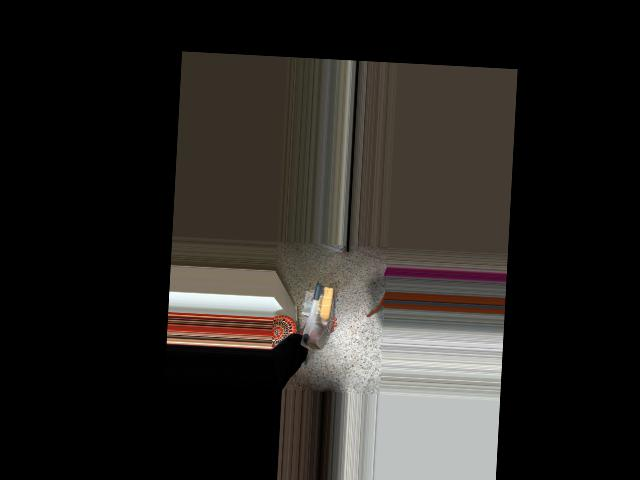cheese: (297, 283, 337, 353)
